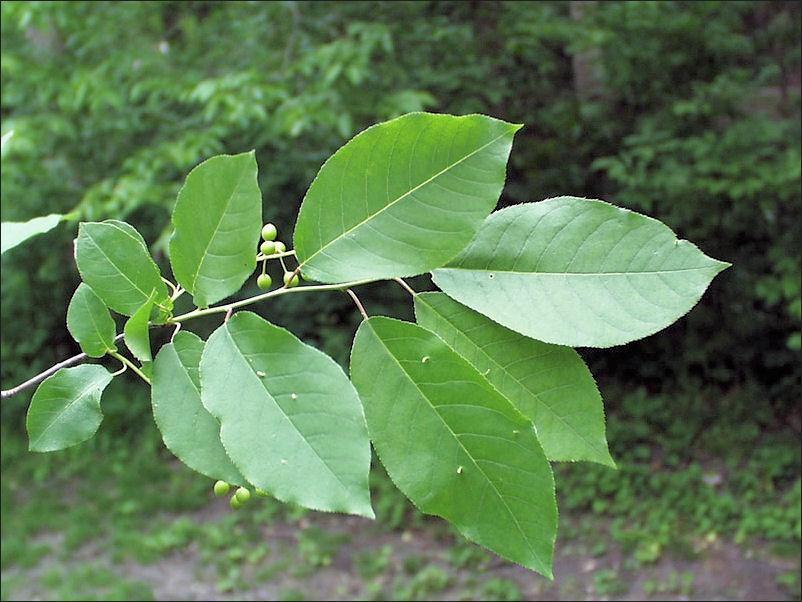Cherry leaf: (342, 309, 617, 591), (432, 198, 733, 347), (292, 107, 528, 293), (207, 316, 395, 540), (139, 321, 258, 522), (164, 145, 278, 313), (72, 205, 191, 330), (17, 357, 130, 466), (56, 281, 133, 367)
